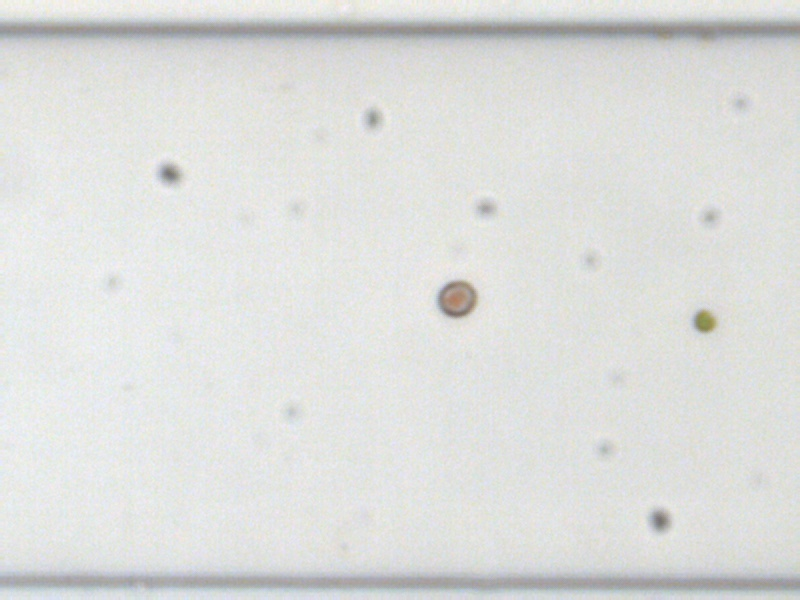Chlorella: (691, 307, 716, 332)
Porphyridium: (437, 280, 477, 319)
